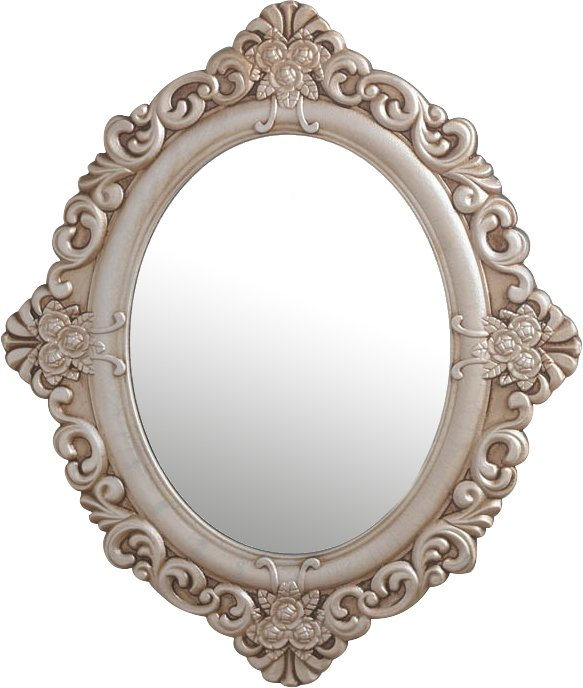Nonrec_Glass: (51, 8, 555, 671)
